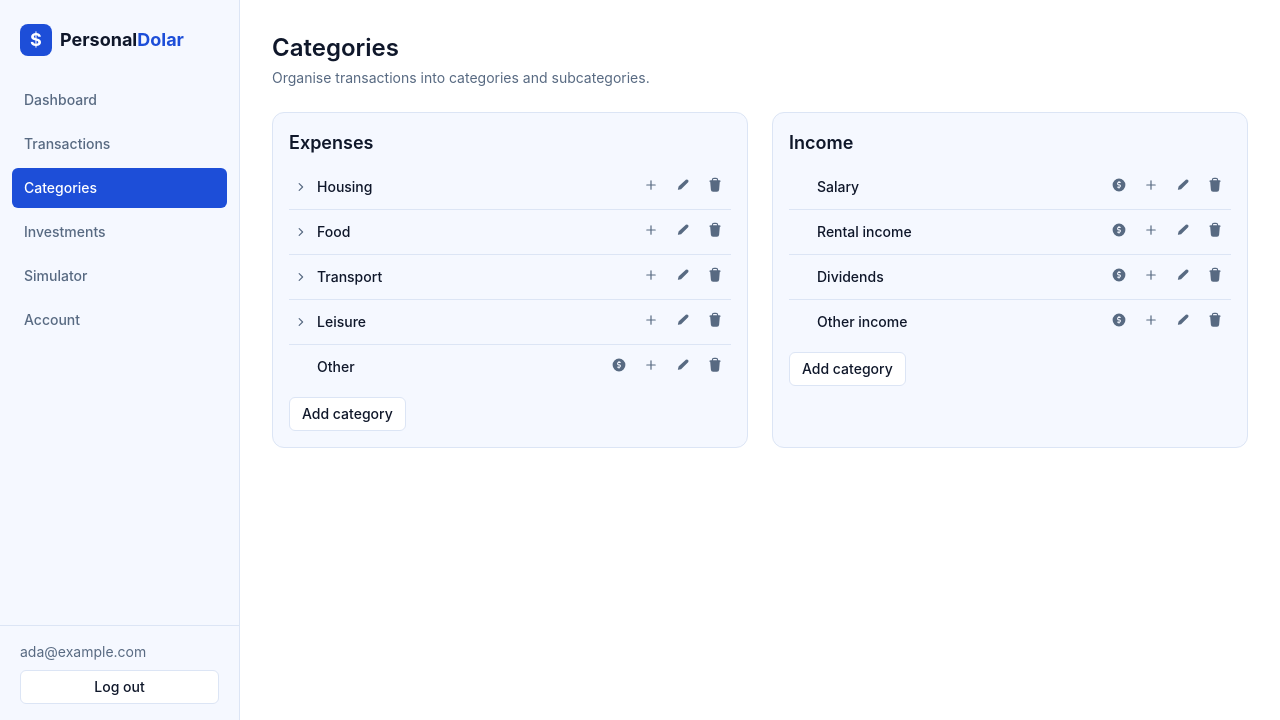
Test: CategoriesPage — managing categories › adds a top-level expense category with a trimmed name at the end
Expected: the heading "Categories" is shown, [272, 33, 399, 62]
Expected: the heading "Expenses" is shown, [289, 132, 374, 153]
Click the button "Add category" below "Expenses".
click(347, 414)  # box [289, 397, 406, 431]
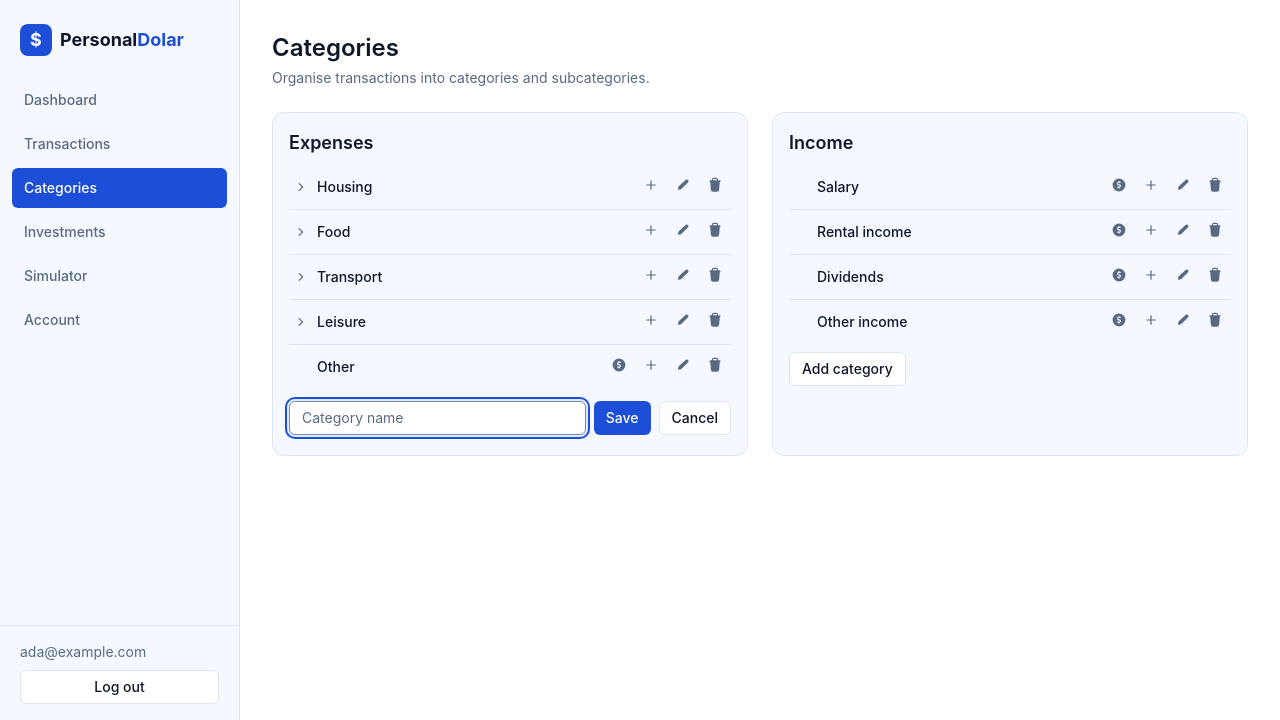
Type "  Health  " into the field labelled "Category name".
click(437, 418); type("  Health  ")  # box [289, 401, 586, 435]
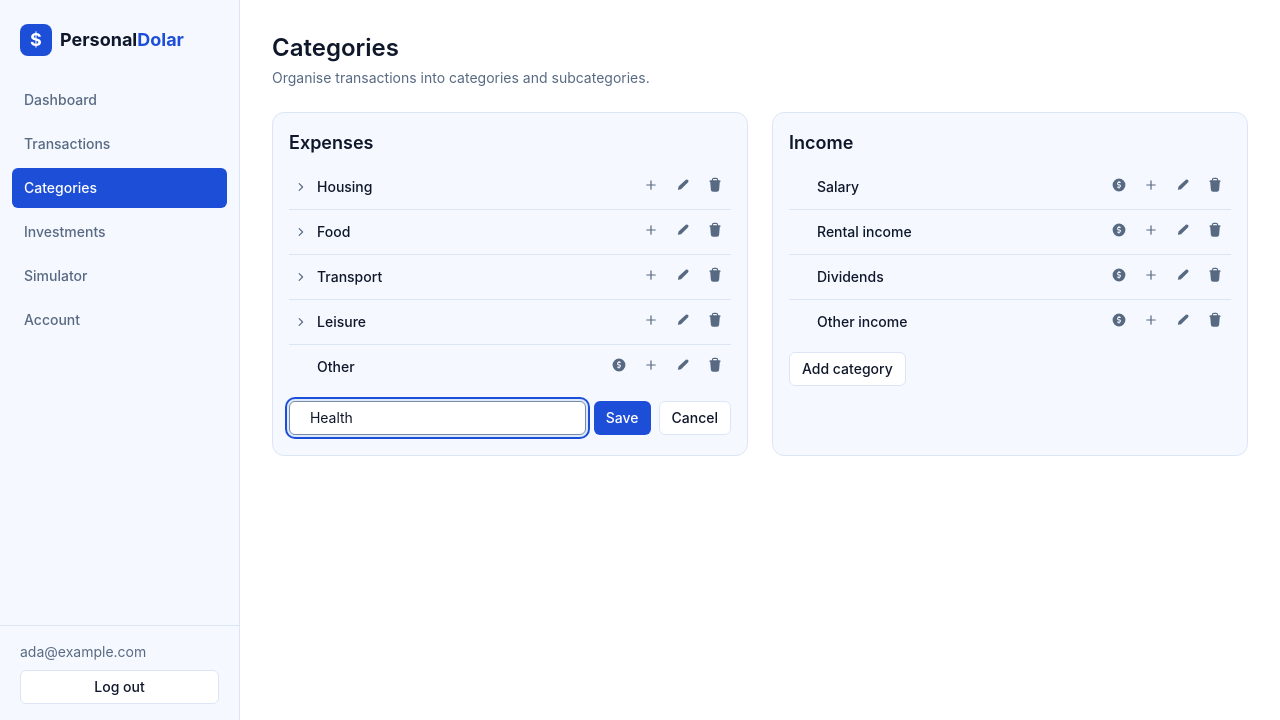
Submit the form, box [289, 397, 731, 439]
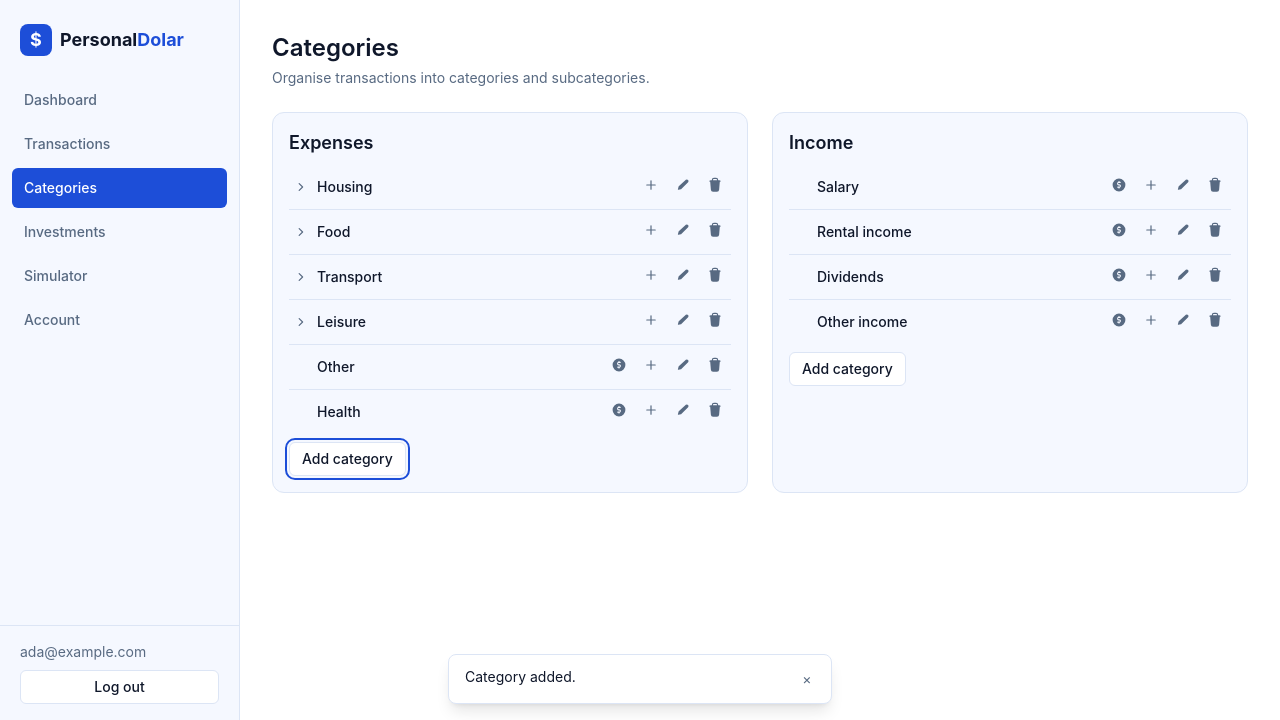
Expected: the field labelled "Category name" is not shown
Result: the text "Health" is shown at [317, 402, 361, 422]
